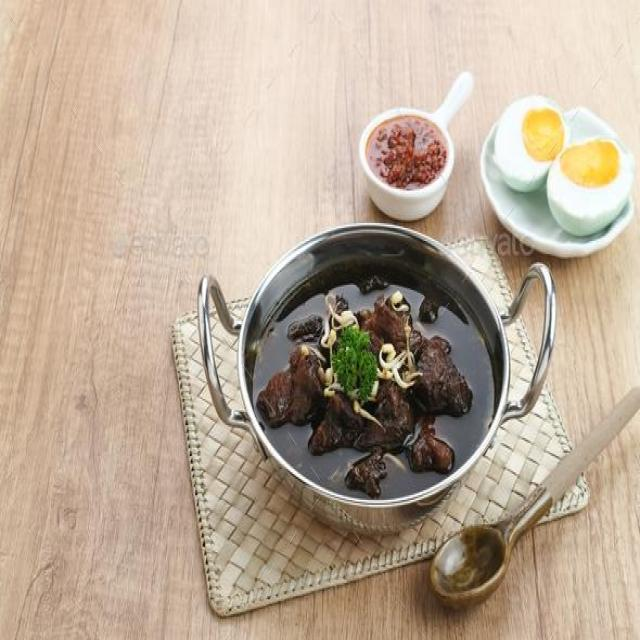Rawon: (258, 250, 491, 506)
